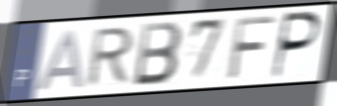7: (188, 16, 229, 84)
A: (35, 28, 86, 93)
B: (132, 20, 184, 89)
F: (225, 15, 278, 82)
P: (269, 10, 323, 81)
R: (83, 24, 137, 90)
